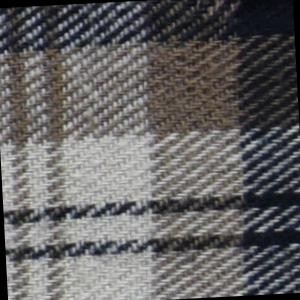Damage: (164, 30, 241, 114)
